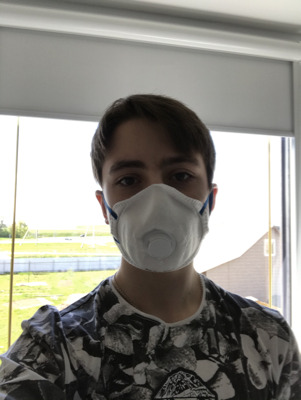with_mask: (100, 144, 215, 273)
